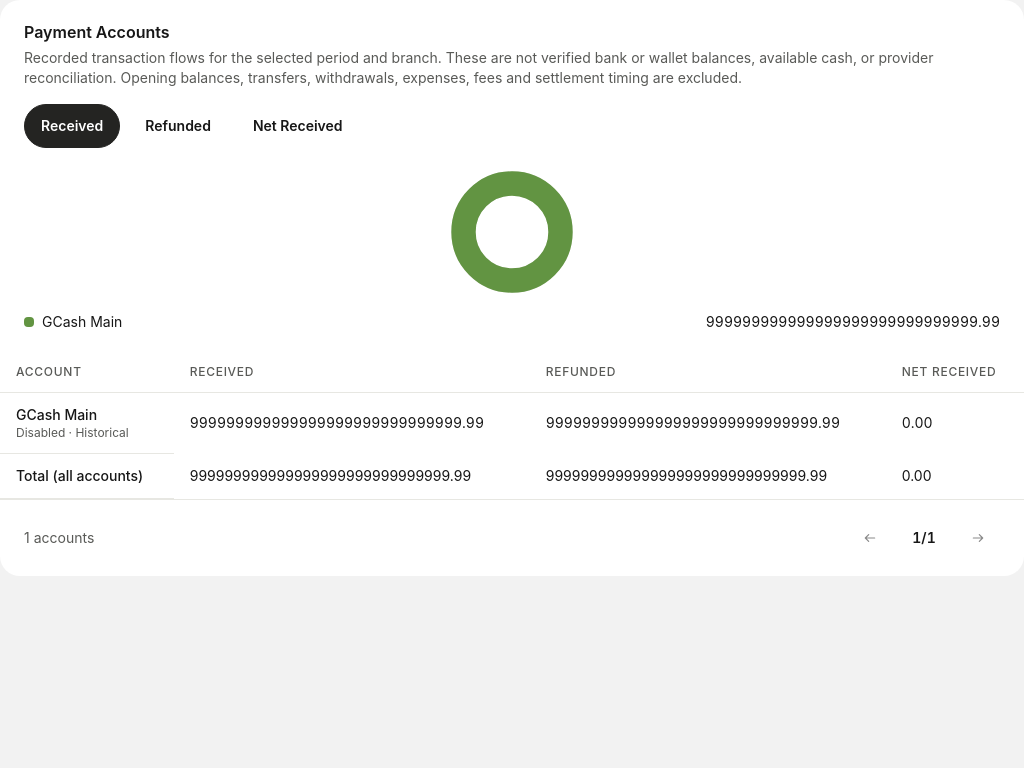
Test: payment account reports › keeps zero and historical accounts, exact large values, stable colors, and an honest zero-net state
Expected: the text "Disabled · Historical" is shown, [16,425,129,440]
Expected: the text "999999999999999999999999999999.99" is shown, [706,312,1000,332]
Click the button "Net Received".
click(298, 126)  # box [236,104,360,148]
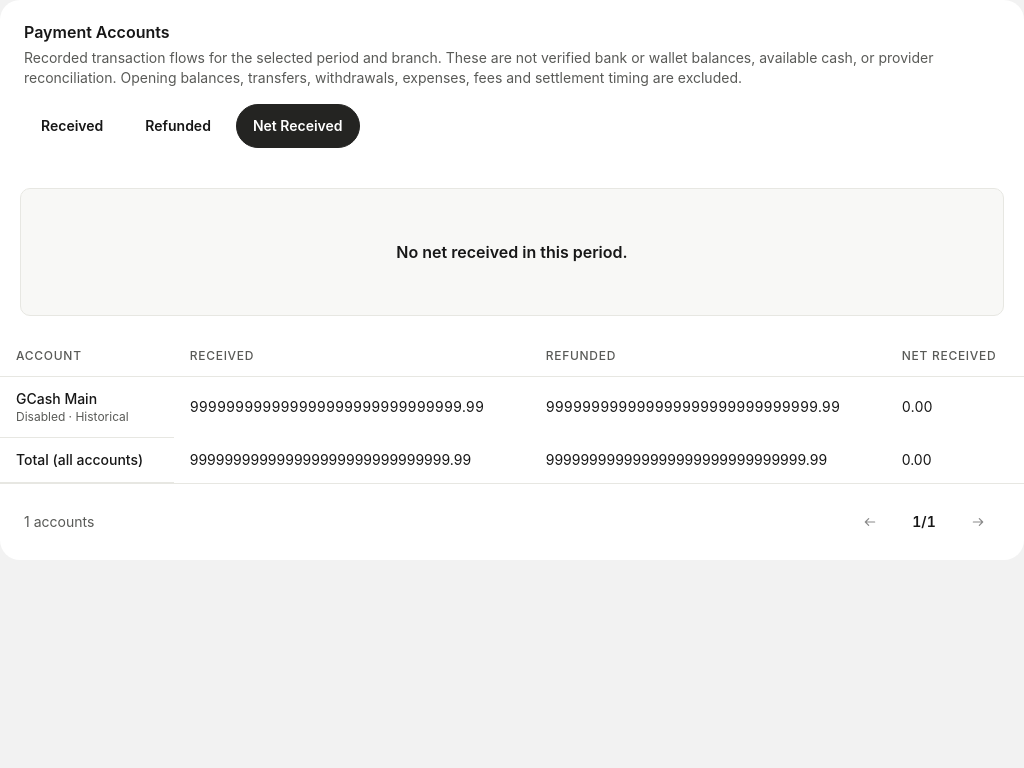
Expected: the heading "No net received in this period." is shown, [396,240,628,264]
